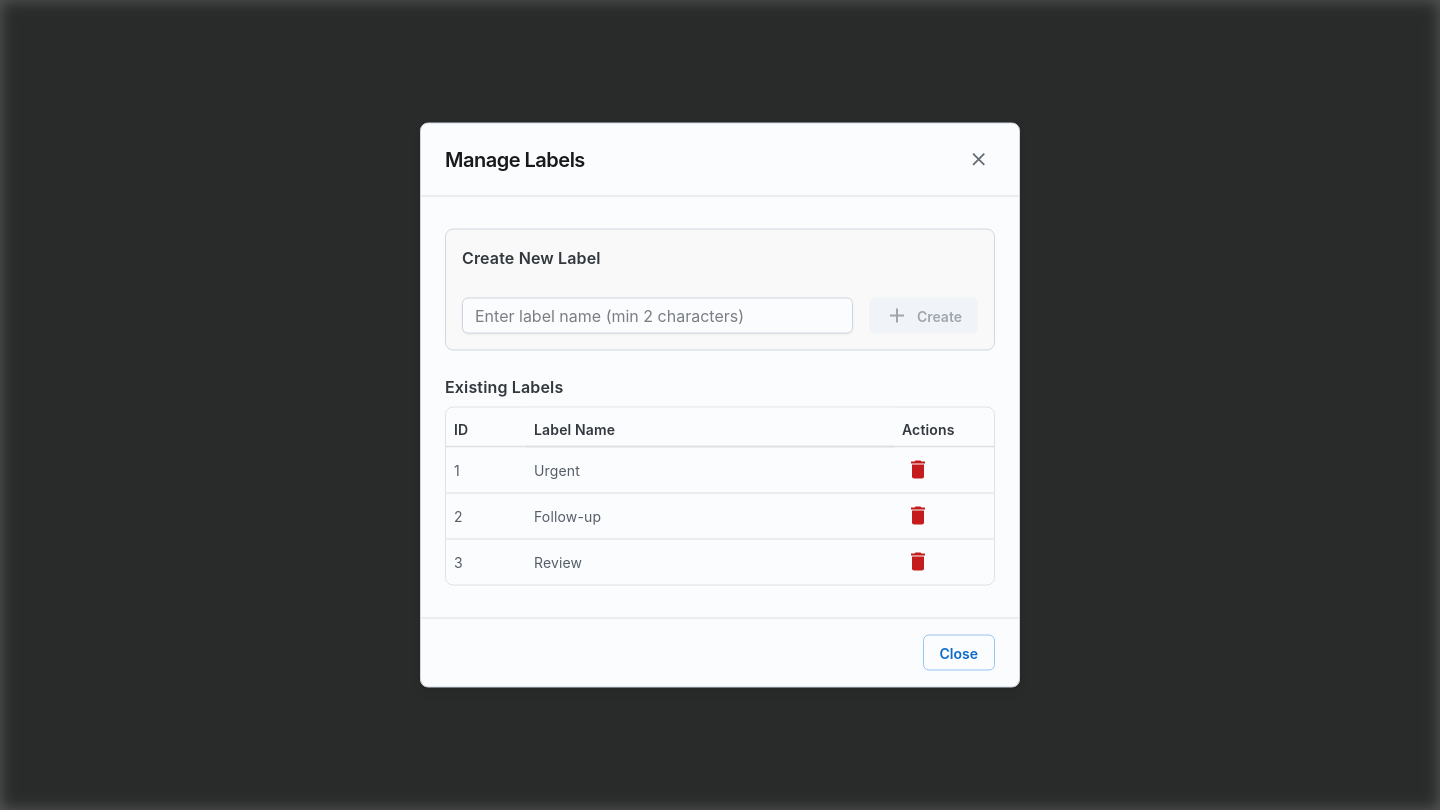
Test case: LabelManagerDialog - G-F4 Tests › Error Handling › displays error when createDrawerLabel fails
This screenshot has width=1440, height=810.
Type "Fail Label" into the field with placeholder "Enter label name (min 2 characters)" at (657, 316), box [475,298,840,332]
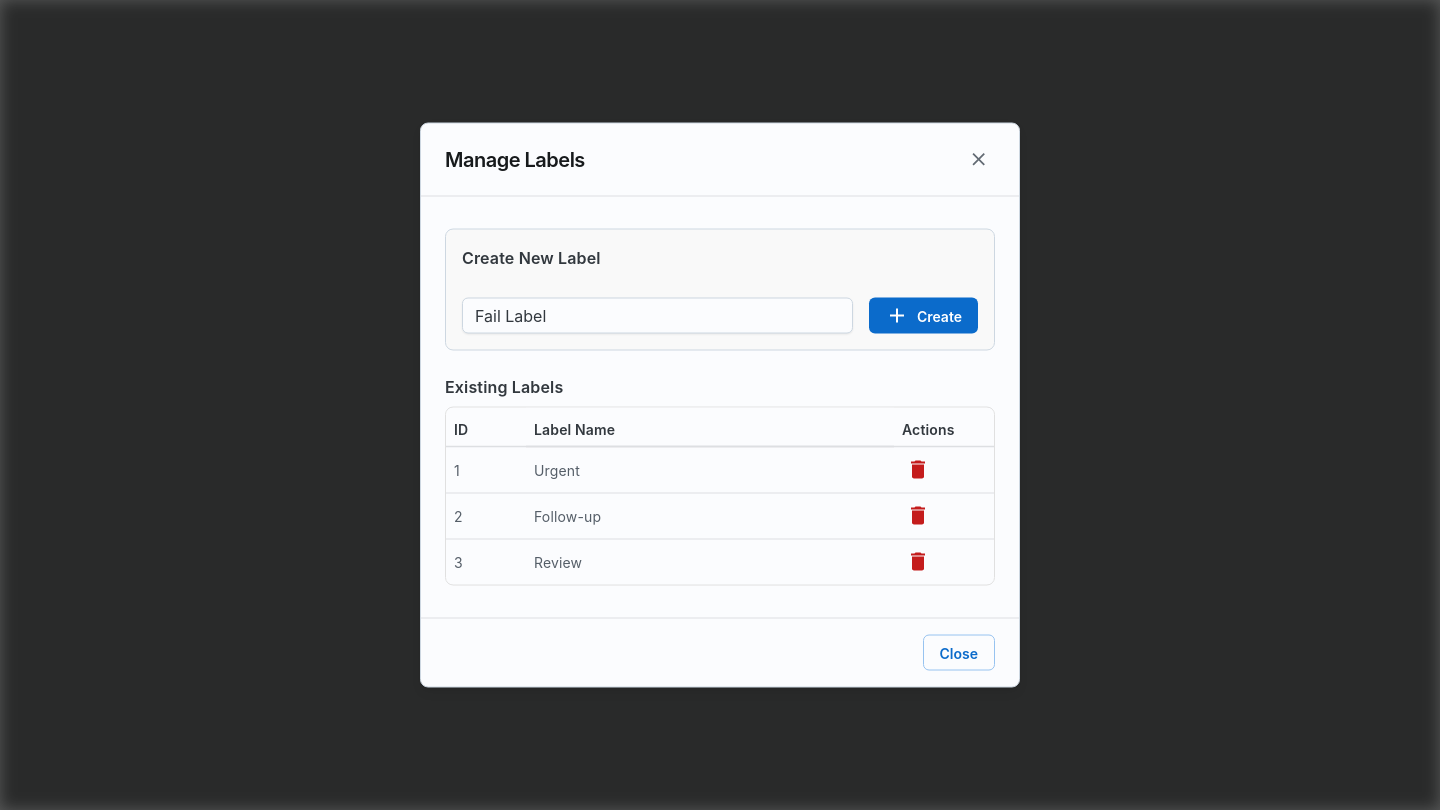
Click the button "Create" at (923, 316), box [869,298,978,334]
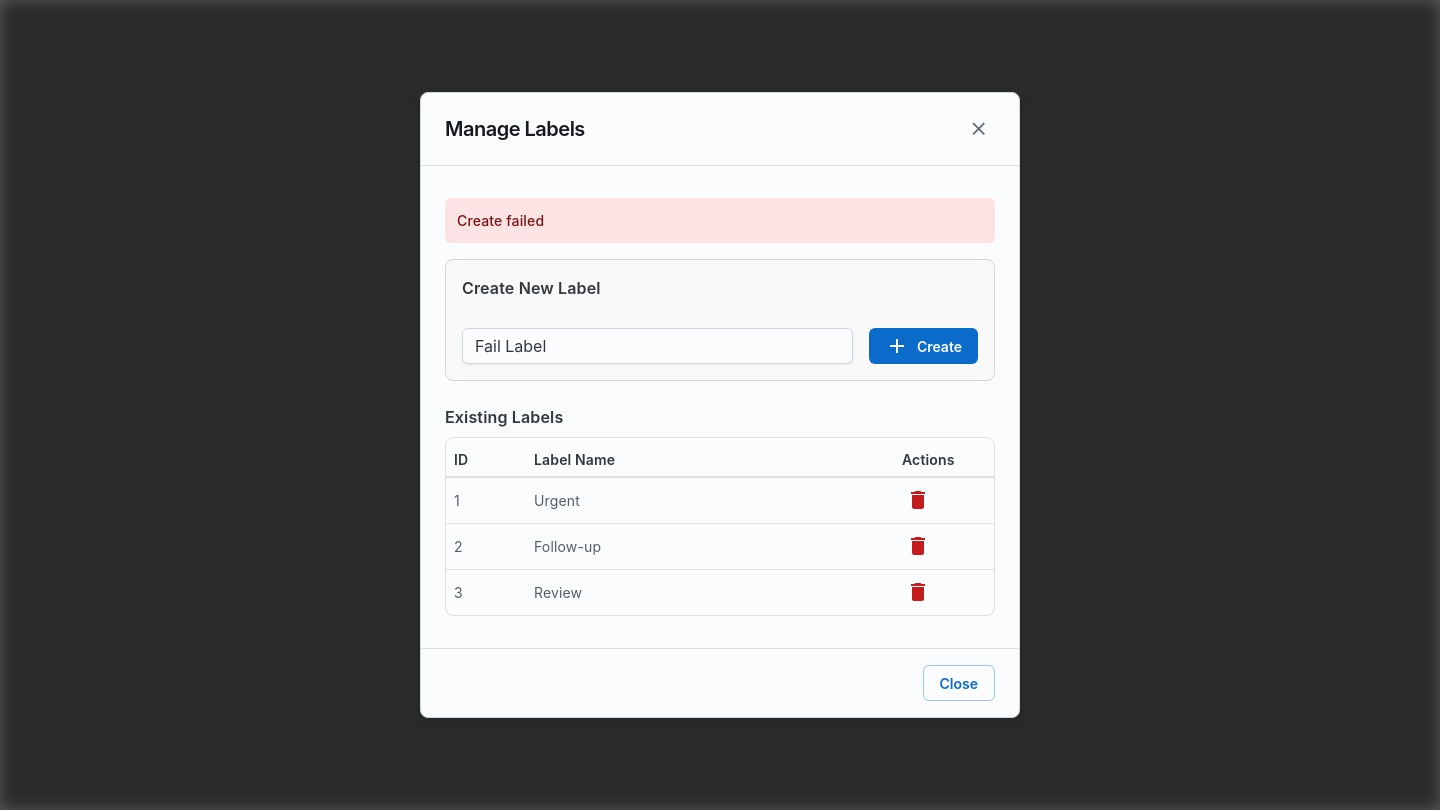
Now the text "Create failed" is shown, box [445,198,995,243]
